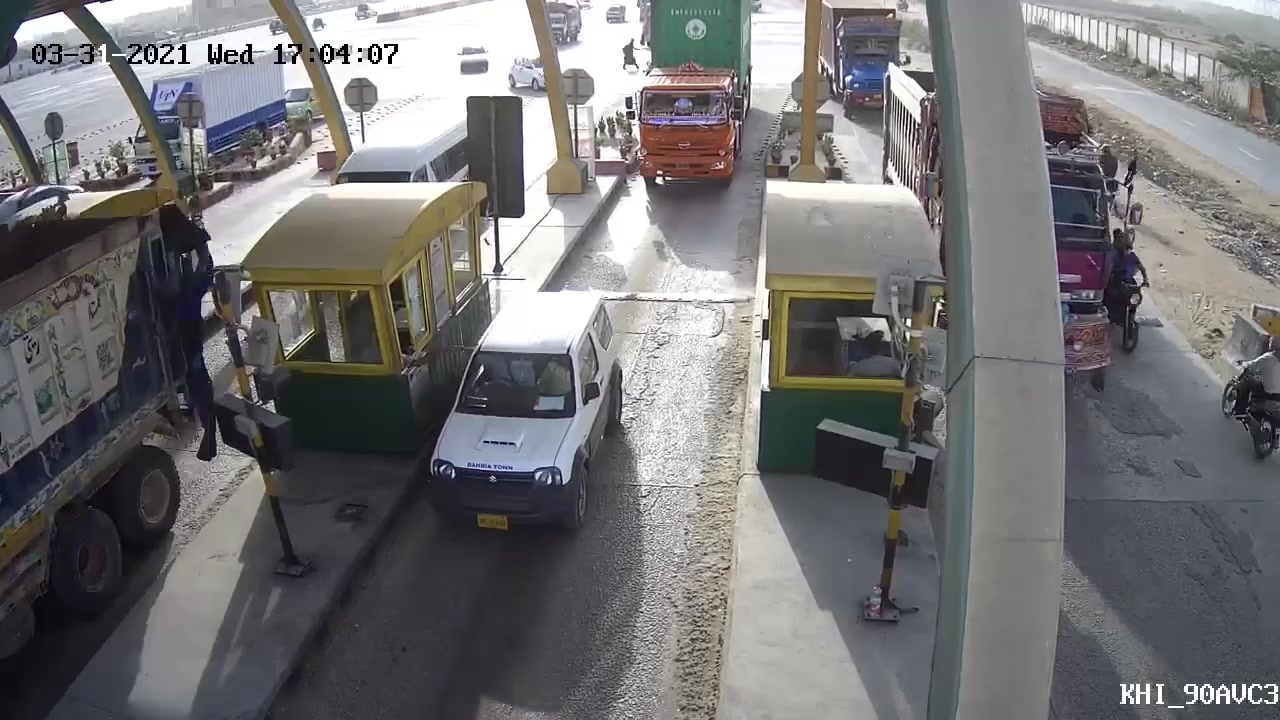F1: (418, 287, 634, 533)
F6: (612, 3, 751, 196)
